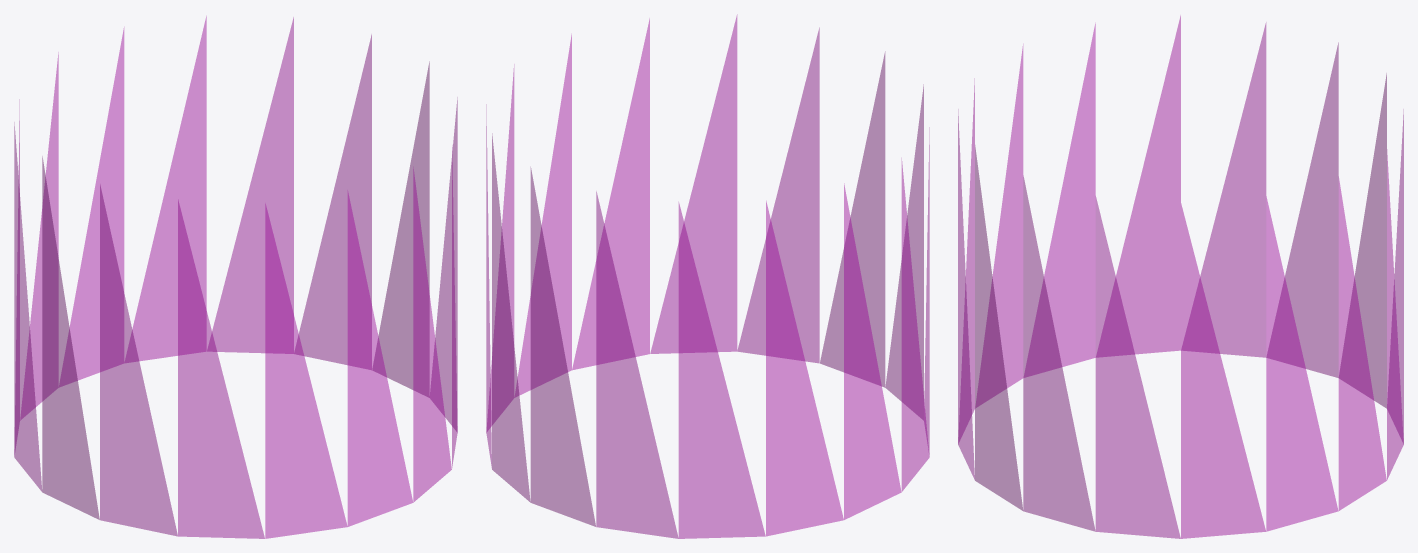
Rendered from check.fbx.
3 views of the same model, side by side, from view 1: azimuth 30°, elevation 25°; view 2: azimuth 150°, elevation 25°; view 3: azimuth 270°, elevation 25° (orthographic).
Parts seen in each view (by area): view 1: pCylinder1; view 2: pCylinder1; view 3: pCylinder1.
Boxes of the visible parts, bbox=[...] form: pCylinder1: bbox=[14, 16, 457, 538]; pCylinder1: bbox=[486, 14, 929, 538]; pCylinder1: bbox=[958, 15, 1403, 538].
Size of the model in its own units: 24 by 20 by 24.
